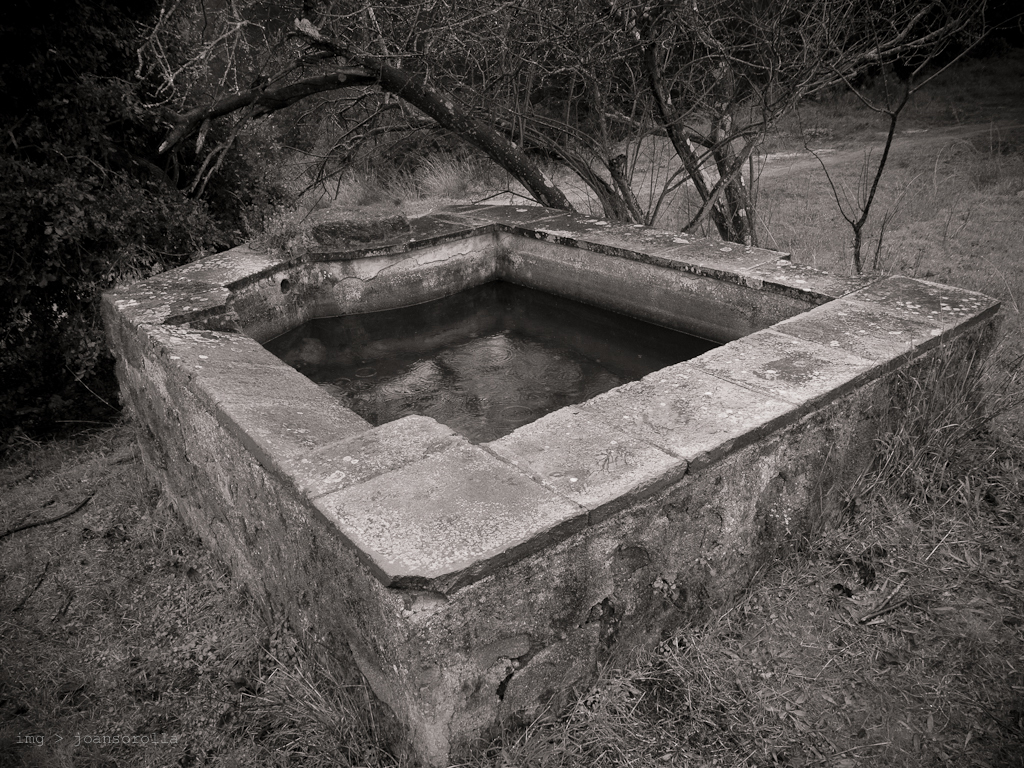Tree: (76, 0, 1018, 278)
